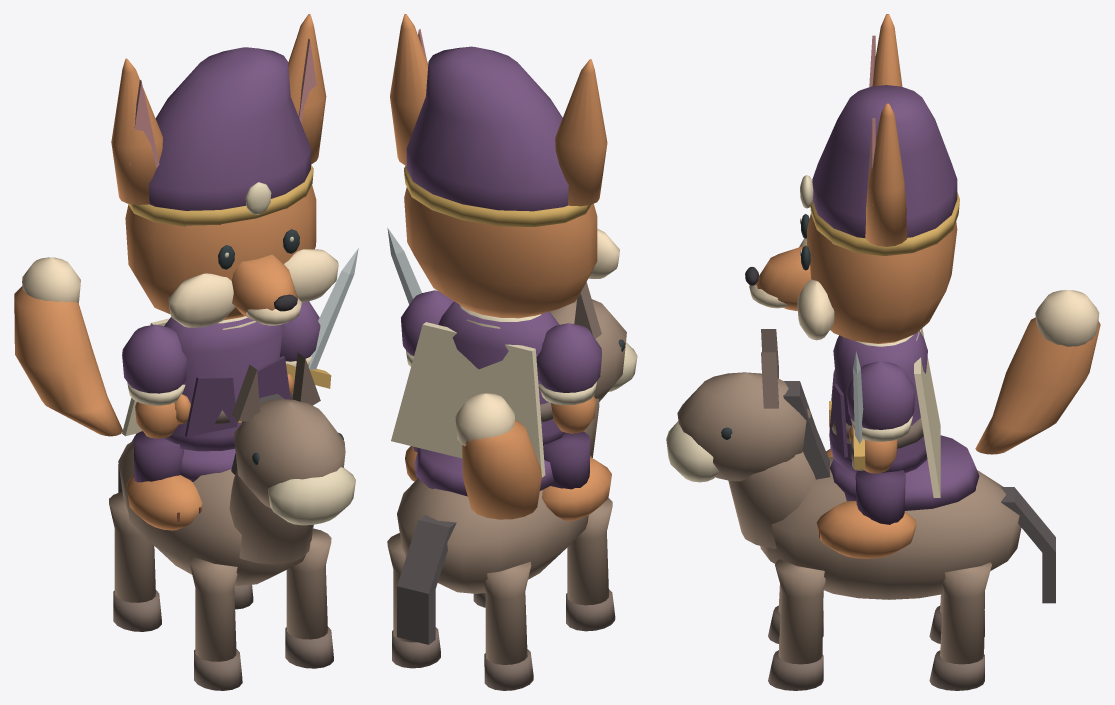
The model's file is rider.glb.
The picture shows the model from 3 angles, left to right: view 1: azimuth 30°, elevation 25°; view 2: azimuth 150°, elevation 25°; view 3: azimuth 270°, elevation 25°; orthographic projection.
Visible parts, largest first — view 1: Folded Persian tiara, Animal cheek head, Plush sweeping tail, Pony head, Plump pony body, Short folded tunic, Tall animal ear, Pony neck, Pony stubby leg, Pony stubby leg.001, Puff sleeve, Pony muzzle (+25 smaller); view 2: Folded Persian tiara, Animal cheek head, Persian shoulder drape, Plump pony body, Plush sweeping tail, Tall animal ear, Pony tail, Short folded tunic, Pony stubby leg.002, Puff sleeve, Tall animal ear.001, Pony stubby leg (+18 smaller); view 3: Plump pony body, Folded Persian tiara, Animal cheek head, Pony head, Plush sweeping tail, Pony neck, Short folded tunic, Tall animal ear.001, Pony stubby leg.001, Pony stubby leg.003, Saddle blanket, Soft animal paw.001 (+18 smaller).
Boxes of the visible parts, left/top/right/bottom form: Folded Persian tiara: left=149, top=47, right=310, bottom=210; Animal cheek head: left=125, top=185, right=316, bottom=320; Plush sweeping tail: left=14, top=286, right=122, bottom=436; Pony head: left=233, top=399, right=345, bottom=508; Plump pony body: left=118, top=441, right=313, bottom=585; Short folded tunic: left=163, top=317, right=284, bottom=451; Tall animal ear: left=111, top=58, right=162, bottom=204; Pony neck: left=229, top=469, right=312, bottom=564; Pony stubby leg: left=189, top=556, right=237, bottom=661; Pony stubby leg.001: left=286, top=528, right=331, bottom=639; Puff sleeve: left=122, top=324, right=186, bottom=393; Pony muzzle: left=267, top=467, right=355, bottom=525; Folded Persian tiara: left=406, top=46, right=568, bottom=211; Animal cheek head: left=404, top=187, right=597, bottom=318; Persian shoulder drape: left=391, top=322, right=545, bottom=477; Plump pony body: left=397, top=455, right=592, bottom=593; Plush sweeping tail: left=462, top=420, right=541, bottom=519; Tall animal ear: left=555, top=59, right=607, bottom=206; Pony tail: left=397, top=515, right=456, bottom=644; Short folded tunic: left=438, top=301, right=564, bottom=445; Pony stubby leg.002: left=484, top=561, right=531, bottom=664; Puff sleeve: left=536, top=323, right=601, bottom=392; Tall animal ear.001: left=390, top=14, right=428, bottom=165; Pony stubby leg: left=567, top=498, right=612, bottom=605; Plump pony body: left=760, top=457, right=1021, bottom=599; Folded Persian tiara: left=812, top=85, right=957, bottom=237; Animal cheek head: left=807, top=214, right=957, bottom=343; Pony head: left=677, top=372, right=810, bottom=481; Plush sweeping tail: left=975, top=317, right=1100, bottom=454; Pony neck: left=728, top=451, right=815, bottom=548; Short folded tunic: left=829, top=331, right=927, bottom=472; Tall animal ear.001: left=865, top=103, right=907, bottom=246; Pony stubby leg.001: left=775, top=559, right=825, bottom=664; Pony stubby leg.003: left=940, top=562, right=991, bottom=664; Saddle blanket: left=830, top=435, right=979, bottom=510; Soft animal paw.001: left=816, top=501, right=916, bottom=558.
Bounding box in the file's own units: 1.01 × 2.37 × 1.56.
